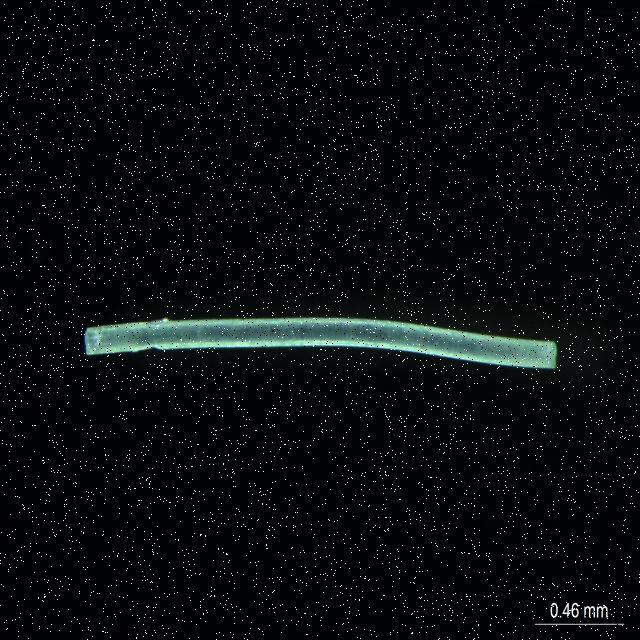fiber: (80, 323, 562, 379)
